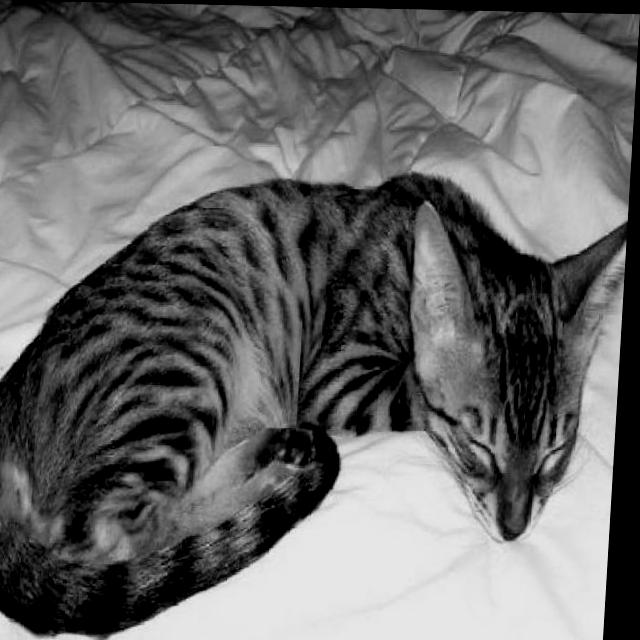Cat: (0, 166, 628, 640)
